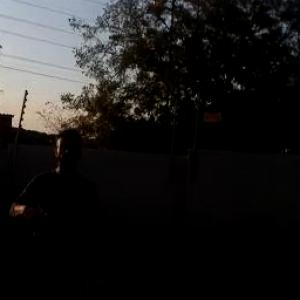follow: (2, 125, 103, 299)
